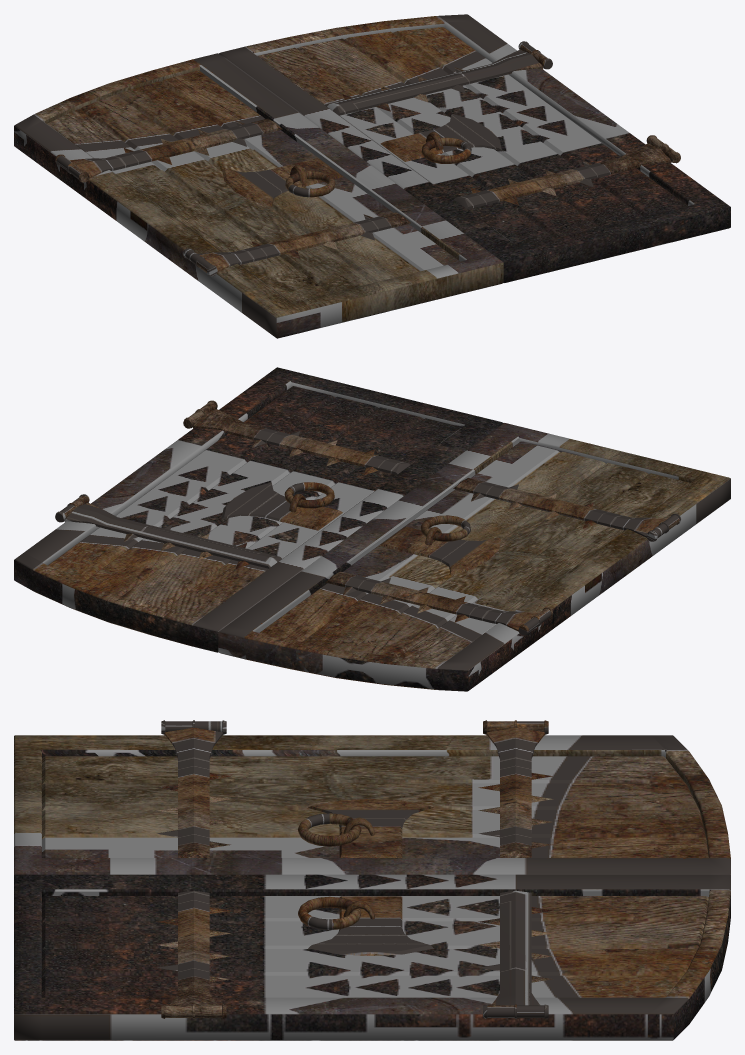
Rendered from CastleDoor.FBX.
3 renders of one model, top to bottom at view 1: azimuth 30°, elevation 25°; view 2: azimuth 150°, elevation 25°; view 3: azimuth 270°, elevation 25°, orthographic. The views are drawn at different scales.
Visible parts, largest first — view 1: CastleDoor; view 2: CastleDoor; view 3: CastleDoor.
Part boxes in pixels (x1,y1,x2,y2): CastleDoor: (14, 14, 730, 338); CastleDoor: (14, 367, 730, 691); CastleDoor: (14, 720, 730, 1040).
Bounding box in the file's own units: 219 × 22.29 × 228.
1 material, 1 textured.
